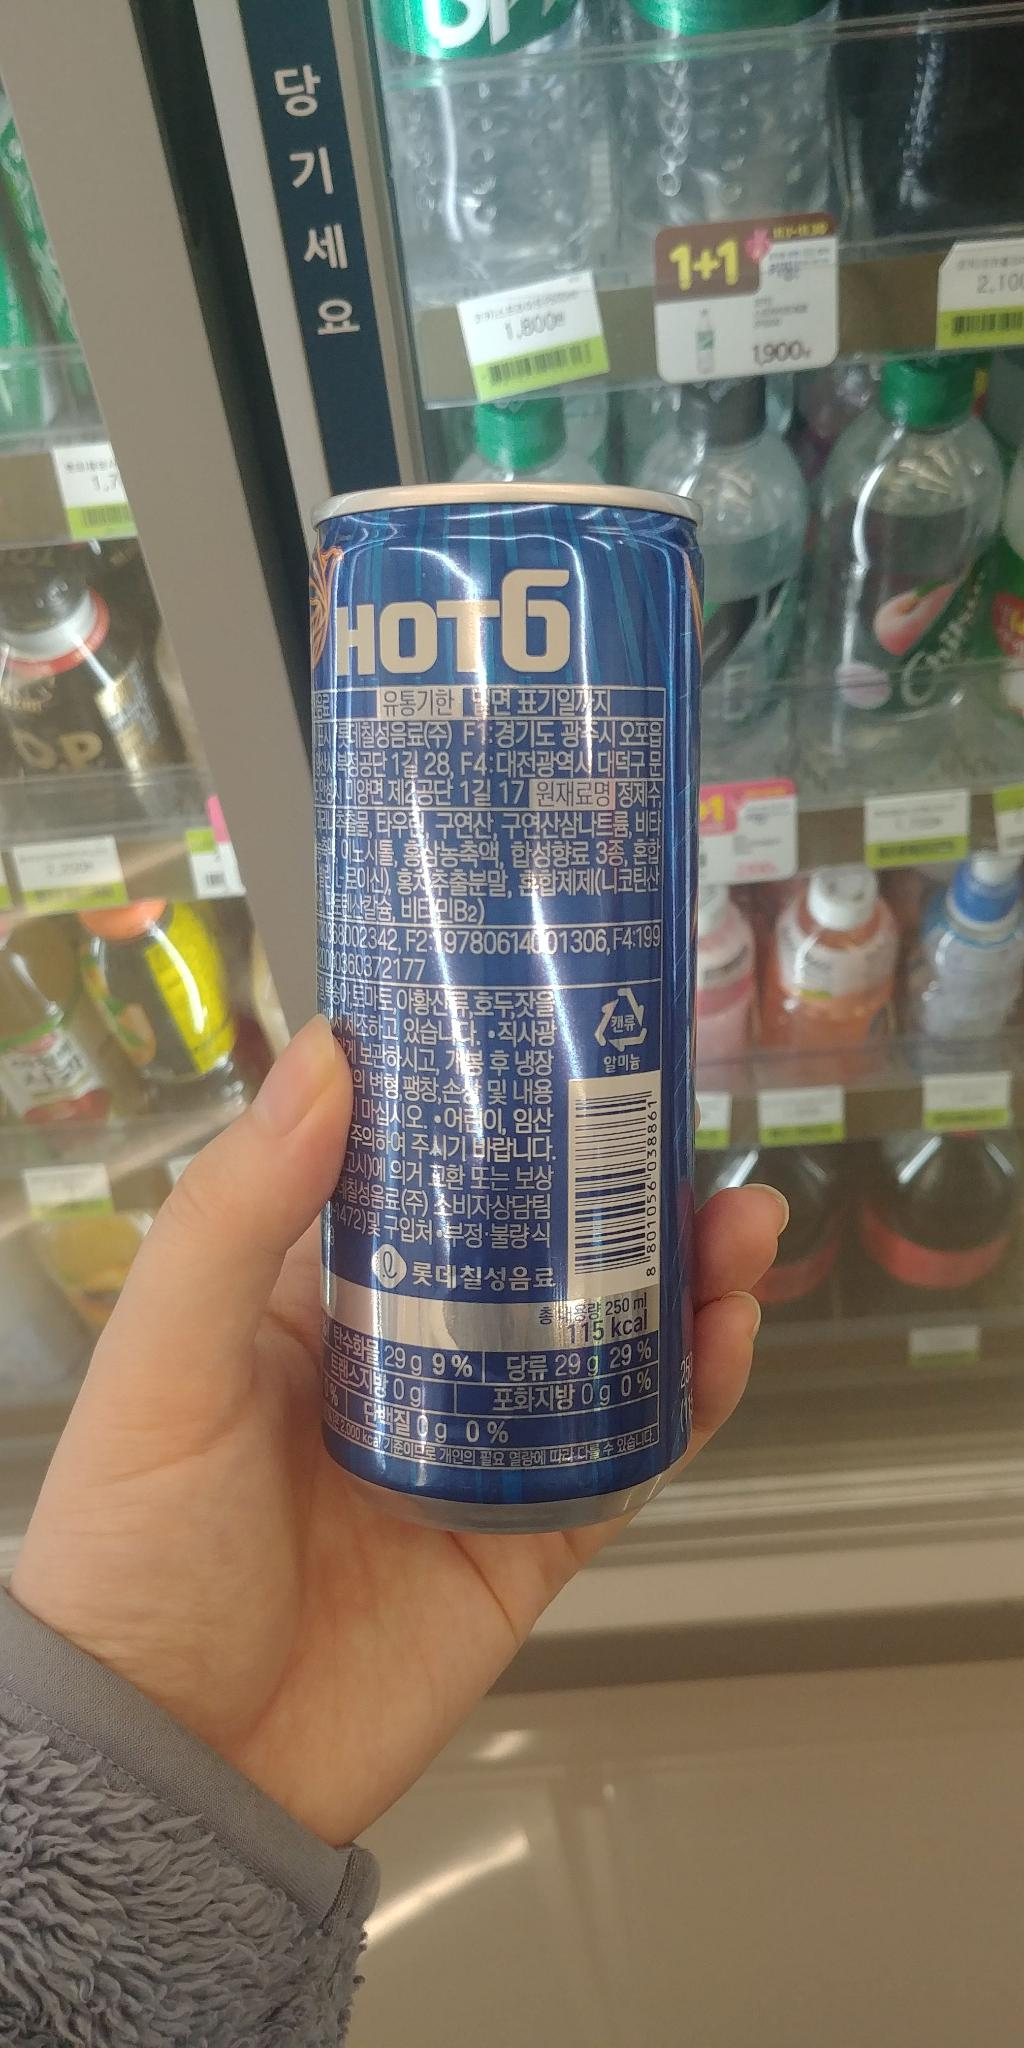hotsix_org: (280, 458, 730, 1518)
